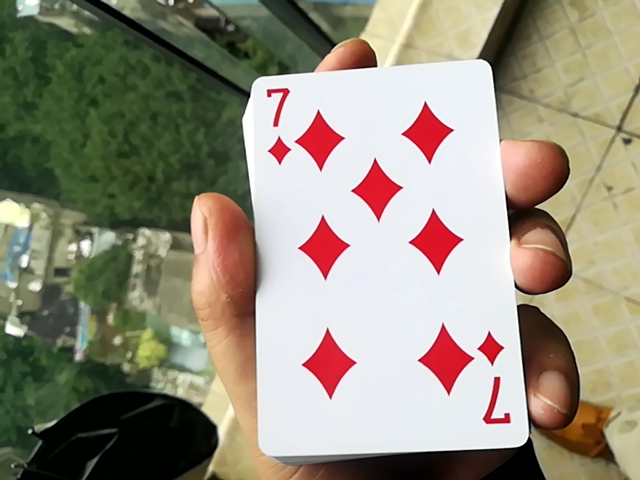fk 7: (229, 48, 527, 462)
